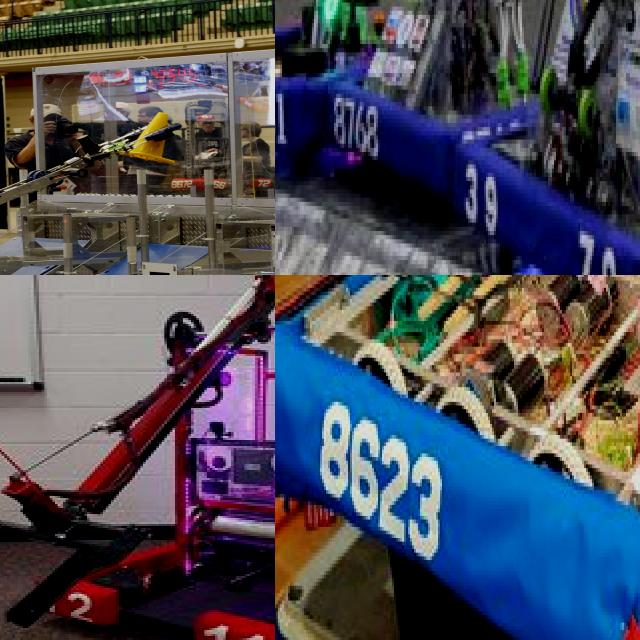FRC-Robots: (275, 275, 640, 640), (0, 275, 275, 640), (458, 0, 640, 275), (322, 0, 562, 194), (0, 87, 207, 275), (275, 0, 380, 180)
